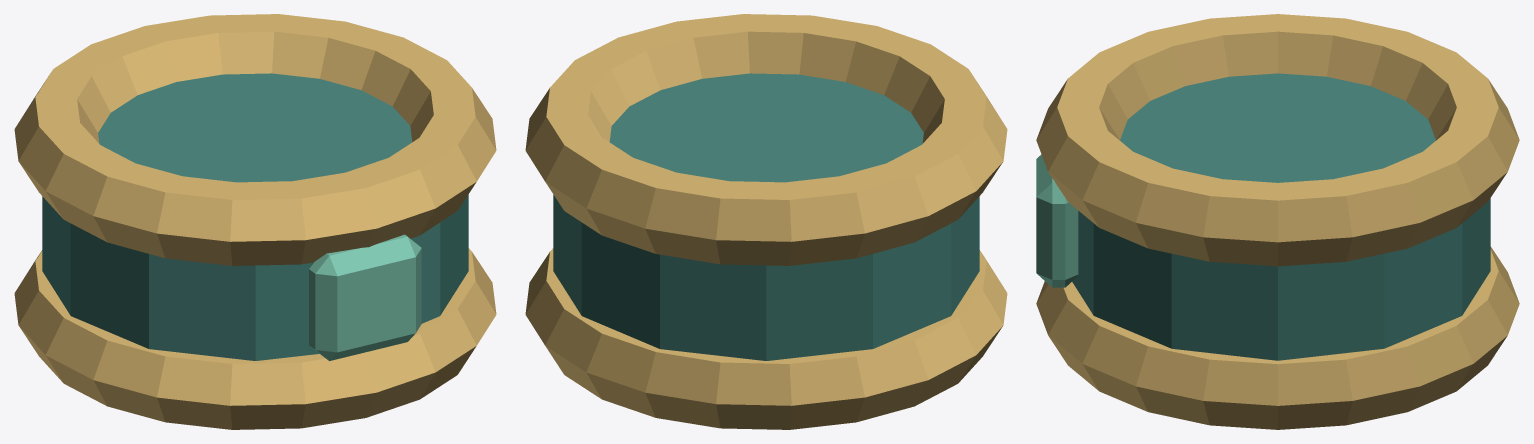
Rendered from qingqiu-bracer.glb.
3 renders of one model, left to right at view 1: azimuth 30°, elevation 25°; view 2: azimuth 150°, elevation 25°; view 3: azimuth 270°, elevation 25°, orthographic.
Visible parts, largest first — view 1: qingqiu-bracer; view 2: qingqiu-bracer; view 3: qingqiu-bracer.
Boxes of the visible parts, <box> form: qingqiu-bracer: <box>14,14,496,429</box>; qingqiu-bracer: <box>525,14,1007,429</box>; qingqiu-bracer: <box>1036,14,1519,429</box>.
Size of the model in its own units: 0.75 by 0.3926 by 0.75.
